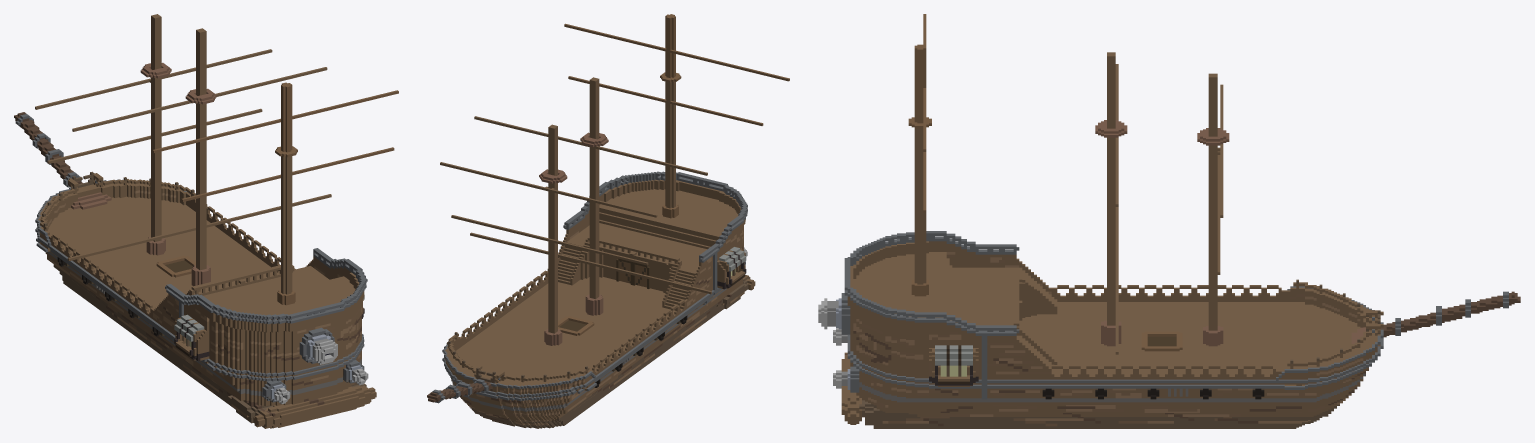
File: ship.glb
The picture shows the model from 3 angles, left to right: view 1: azimuth 30°, elevation 25°; view 2: azimuth 150°, elevation 25°; view 3: azimuth 270°, elevation 25°; orthographic projection. The views are drawn at different scales.
Parts seen in each view (by area): view 1: Untitled; view 2: Untitled; view 3: Untitled.
Part boxes in pixels (bbox=[...]): Untitled: bbox=[14, 14, 398, 428]; Untitled: bbox=[427, 14, 789, 428]; Untitled: bbox=[818, 14, 1520, 428].
Bounding box in the file's own units: 11.8 × 13.3 × 24.1.
1 material, 1 textured.
